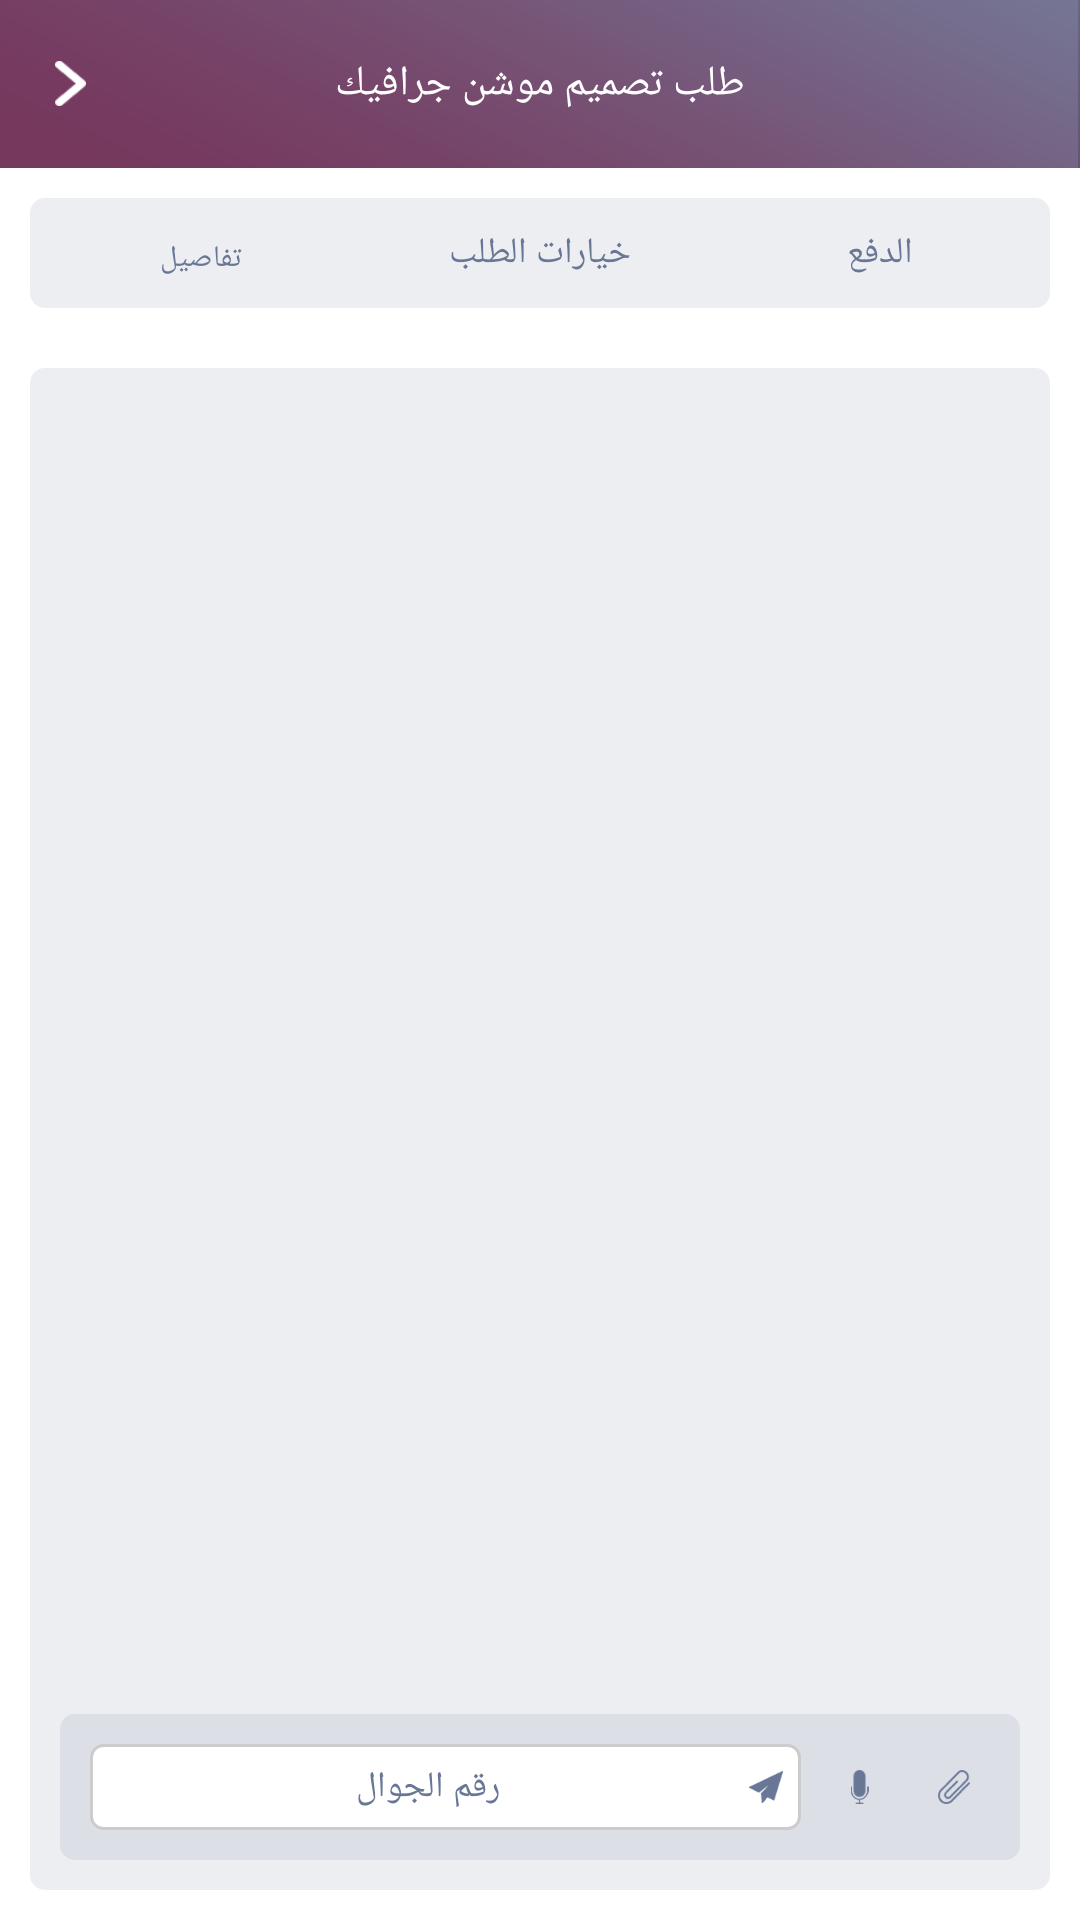

Point at icon controls on the screen. Image size 1080×1920, points as point (x, y).
attachment: point (954, 1787)
microphone: point (860, 1787)
